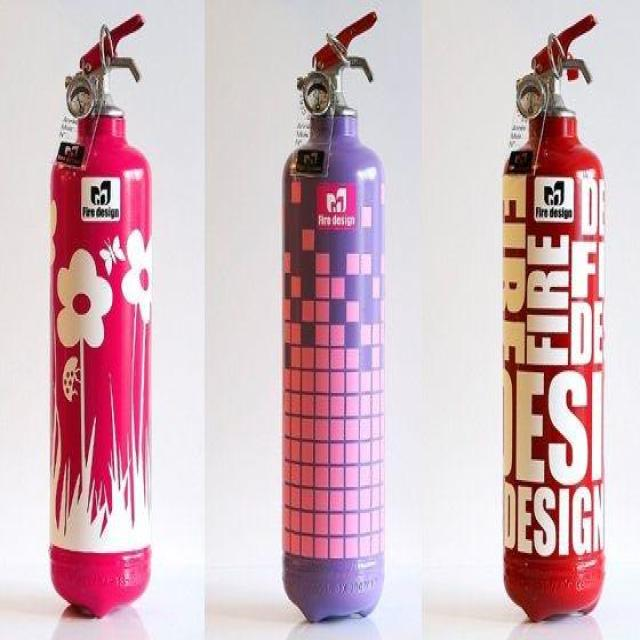fire_extinguisher: (274, 6, 389, 631), (495, 9, 611, 628), (43, 6, 156, 636)
